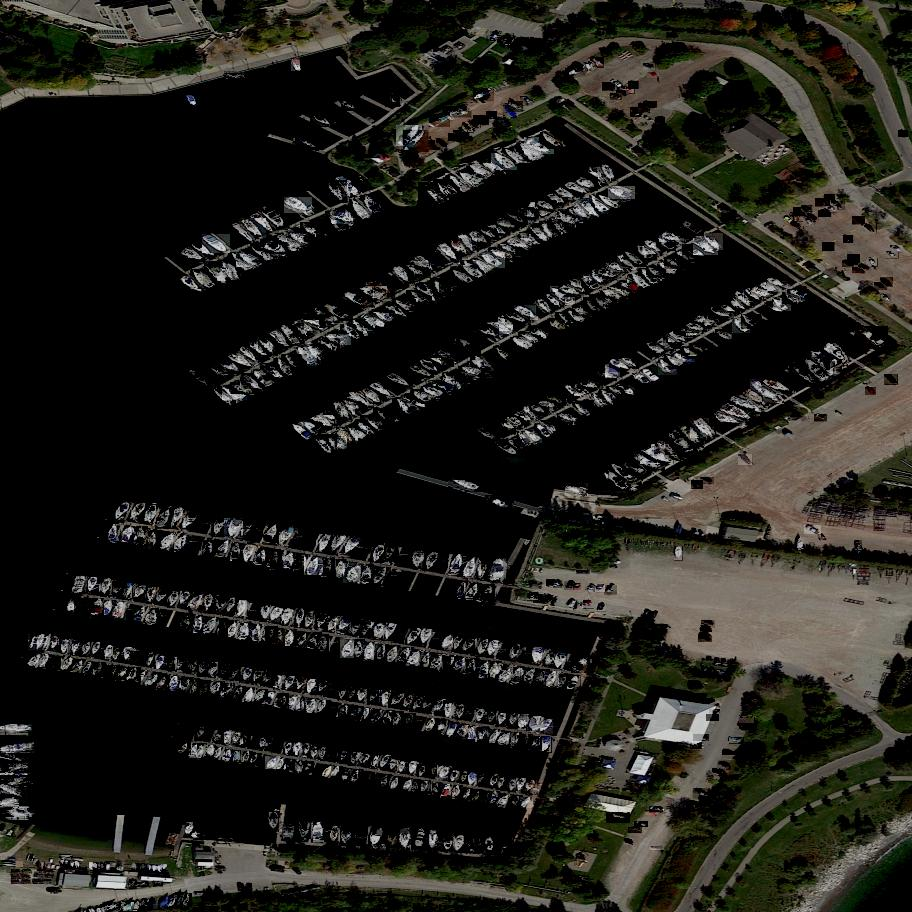ship: (260, 199, 291, 233), (855, 323, 889, 353), (801, 353, 831, 387), (666, 428, 698, 458), (609, 459, 642, 488), (419, 178, 449, 209), (751, 377, 784, 405), (807, 348, 842, 374), (630, 449, 666, 474), (248, 208, 279, 237), (790, 360, 821, 389), (676, 419, 704, 450), (654, 434, 683, 463), (717, 401, 755, 423), (576, 195, 605, 223), (335, 171, 363, 200), (204, 259, 231, 289), (600, 469, 632, 494), (641, 442, 674, 466), (367, 275, 396, 302), (396, 122, 423, 151), (730, 393, 764, 416), (202, 231, 232, 257), (311, 431, 337, 461), (480, 152, 505, 183), (322, 300, 354, 324), (325, 206, 349, 238), (210, 383, 237, 411), (445, 171, 474, 197), (392, 394, 419, 421), (339, 534, 365, 562), (191, 267, 219, 293), (403, 128, 429, 156), (267, 326, 296, 351), (280, 320, 304, 350), (176, 272, 205, 296), (824, 341, 848, 370), (470, 352, 494, 381), (502, 146, 531, 170), (763, 375, 796, 396), (189, 238, 219, 261), (448, 474, 482, 494), (709, 407, 743, 427), (240, 216, 267, 241), (228, 249, 253, 276), (457, 332, 482, 359), (289, 418, 316, 443), (281, 351, 308, 376), (517, 138, 542, 165), (250, 241, 278, 265), (433, 177, 461, 201), (326, 177, 349, 206), (0, 747, 33, 767), (230, 220, 256, 245), (300, 220, 326, 245), (461, 257, 486, 283), (241, 371, 268, 395), (217, 257, 240, 285), (467, 162, 496, 184), (237, 248, 267, 269), (344, 289, 374, 310), (525, 136, 555, 157), (251, 366, 276, 391), (416, 280, 441, 305), (529, 222, 554, 247), (492, 150, 518, 174), (167, 505, 190, 532), (361, 192, 384, 219), (350, 197, 373, 224), (358, 312, 389, 332), (623, 457, 652, 478), (385, 370, 414, 391), (311, 306, 343, 325), (127, 499, 151, 524), (448, 236, 472, 261), (551, 283, 576, 307), (443, 370, 467, 395), (526, 197, 551, 221), (691, 415, 714, 441), (451, 264, 477, 287), (350, 317, 373, 343), (347, 389, 373, 412), (247, 339, 274, 361), (401, 391, 428, 413), (368, 379, 395, 401), (356, 284, 387, 303), (284, 196, 313, 216), (744, 385, 768, 409), (493, 344, 517, 368), (340, 322, 364, 346), (406, 288, 432, 310), (286, 229, 316, 248), (331, 207, 361, 226), (394, 262, 415, 289), (422, 547, 442, 575), (558, 208, 581, 232), (328, 533, 350, 558), (276, 524, 298, 549), (412, 253, 437, 275), (296, 345, 318, 370), (627, 272, 652, 294), (623, 247, 648, 269), (496, 438, 522, 459), (261, 362, 287, 383), (274, 355, 295, 381), (258, 332, 279, 358), (218, 356, 245, 376), (225, 352, 255, 370), (261, 238, 291, 256), (469, 255, 496, 275), (405, 361, 435, 379), (485, 494, 513, 513), (438, 241, 460, 265), (155, 506, 176, 531), (458, 231, 479, 256), (359, 386, 384, 407), (332, 398, 353, 423), (693, 236, 718, 257), (597, 191, 622, 212), (212, 511, 230, 540), (290, 319, 319, 337), (514, 303, 540, 323), (383, 300, 410, 319), (525, 324, 552, 343), (0, 775, 32, 791), (302, 343, 332, 360), (455, 170, 485, 187), (343, 562, 365, 585), (494, 414, 516, 437), (635, 241, 657, 264), (638, 266, 660, 289), (369, 308, 397, 326), (498, 310, 519, 334), (505, 207, 529, 228), (540, 219, 561, 243), (476, 425, 501, 445), (224, 516, 244, 541), (431, 275, 451, 300), (417, 356, 442, 376), (296, 132, 321, 152), (1, 758, 32, 774), (506, 309, 532, 328), (480, 251, 506, 270), (573, 174, 599, 193), (2, 784, 31, 801), (682, 244, 709, 262), (563, 180, 590, 198), (580, 271, 602, 293), (520, 230, 543, 251), (355, 418, 378, 439), (541, 130, 564, 151), (274, 235, 304, 251), (75, 596, 95, 620), (682, 218, 706, 238), (179, 247, 207, 264), (298, 312, 326, 329), (360, 414, 388, 431), (304, 554, 323, 579), (264, 523, 283, 548), (590, 192, 609, 217), (449, 552, 467, 578), (402, 262, 431, 278), (428, 379, 457, 395), (540, 649, 562, 670), (495, 664, 516, 686), (239, 344, 260, 366), (584, 295, 605, 317), (588, 165, 609, 187), (372, 566, 392, 589), (159, 531, 179, 554), (183, 510, 203, 533), (572, 400, 595, 420), (468, 228, 491, 248), (703, 231, 723, 254), (411, 827, 430, 851), (316, 532, 335, 556), (119, 523, 138, 547), (113, 499, 132, 523), (215, 539, 234, 563), (99, 598, 118, 622), (476, 322, 500, 341), (311, 111, 335, 130), (369, 825, 387, 850), (207, 363, 235, 379), (488, 246, 516, 262), (485, 220, 511, 237), (567, 206, 593, 223), (572, 655, 593, 676), (545, 290, 566, 311), (618, 252, 639, 273), (656, 232, 677, 253), (460, 635, 480, 657), (406, 649, 426, 671), (172, 533, 192, 555), (615, 379, 637, 399), (592, 391, 612, 413), (536, 294, 556, 316), (507, 641, 526, 664), (63, 593, 82, 616), (563, 383, 586, 402), (436, 346, 459, 365), (465, 582, 483, 606), (70, 573, 88, 597), (342, 425, 369, 441), (464, 556, 481, 581), (411, 388, 436, 405), (553, 185, 578, 202), (438, 632, 458, 653), (640, 365, 661, 385), (658, 357, 678, 378), (374, 407, 395, 427), (424, 354, 454, 368), (547, 218, 575, 233), (608, 185, 636, 200), (191, 371, 213, 390), (323, 406, 342, 428), (736, 287, 755, 309), (494, 216, 520, 232), (595, 265, 621, 281), (708, 305, 734, 321), (590, 294, 616, 310), (383, 621, 401, 644), (383, 644, 401, 667), (318, 337, 341, 355), (546, 190, 569, 208), (315, 608, 332, 632), (511, 336, 535, 353), (311, 413, 335, 430), (617, 279, 641, 296), (5, 807, 36, 820), (336, 615, 356, 635), (389, 690, 409, 710), (223, 385, 248, 401), (130, 584, 150, 604), (593, 367, 618, 383), (646, 338, 666, 358), (300, 418, 325, 434), (515, 206, 540, 222), (452, 655, 471, 676), (522, 667, 541, 688), (188, 593, 207, 614), (153, 586, 172, 607), (259, 625, 278, 646), (663, 330, 682, 351), (527, 714, 545, 736), (201, 615, 219, 637), (665, 353, 687, 371), (231, 381, 259, 395), (306, 631, 323, 654), (600, 160, 617, 183), (491, 558, 506, 584), (370, 541, 386, 565), (144, 502, 160, 526), (609, 358, 633, 374), (644, 240, 668, 256), (108, 579, 127, 599), (534, 421, 553, 441), (742, 313, 762, 332), (570, 277, 590, 296), (212, 595, 230, 616), (337, 426, 355, 447), (297, 815, 312, 840), (320, 556, 335, 581), (519, 331, 544, 346), (1, 742, 35, 753), (360, 618, 376, 641), (512, 410, 535, 426), (555, 311, 578, 327), (487, 321, 513, 335), (143, 671, 162, 690), (371, 621, 389, 641), (340, 637, 355, 661), (430, 654, 448, 674), (681, 344, 701, 362), (689, 342, 713, 357), (733, 317, 751, 337), (405, 627, 422, 648), (398, 647, 415, 668), (599, 388, 620, 405), (547, 317, 568, 334), (590, 267, 607, 288), (430, 113, 451, 130), (255, 547, 271, 569), (655, 337, 677, 353), (715, 328, 737, 344), (506, 238, 533, 251), (361, 563, 375, 588), (393, 298, 418, 312), (475, 227, 500, 241), (322, 436, 347, 450), (478, 659, 493, 682), (241, 518, 256, 541), (242, 542, 257, 565), (606, 260, 629, 275), (565, 309, 588, 324), (536, 197, 559, 212), (409, 697, 428, 715), (420, 696, 438, 715), (536, 718, 554, 737), (154, 673, 172, 692), (27, 651, 45, 670), (260, 671, 279, 689), (773, 296, 792, 314), (506, 437, 526, 454), (534, 668, 551, 688), (517, 430, 534, 450), (695, 313, 715, 330), (523, 428, 543, 445), (728, 296, 748, 313), (665, 257, 691, 270), (420, 651, 436, 672), (443, 654, 459, 675), (224, 595, 240, 616), (29, 634, 50, 650), (179, 613, 195, 634), (134, 605, 150, 626), (560, 283, 584, 297), (474, 88, 495, 104), (385, 542, 400, 564), (544, 669, 559, 691), (565, 64, 587, 79), (340, 398, 362, 413), (545, 393, 567, 408), (601, 289, 623, 304), (719, 300, 741, 315), (660, 230, 685, 243), (572, 304, 597, 317), (458, 366, 485, 378), (745, 286, 763, 304), (496, 731, 515, 748), (314, 679, 331, 698), (554, 673, 571, 692), (269, 606, 286, 625), (134, 669, 151, 688), (541, 419, 560, 436), (481, 583, 495, 606), (378, 753, 394, 773), (263, 690, 279, 710), (125, 666, 141, 686), (71, 658, 87, 678), (669, 327, 689, 343), (504, 415, 524, 431), (2, 770, 31, 781), (453, 633, 468, 654), (486, 638, 501, 659), (523, 402, 538, 423), (565, 483, 589, 496), (499, 245, 525, 257), (422, 386, 446, 399), (608, 287, 634, 299), (375, 642, 389, 664), (269, 549, 283, 571), (251, 622, 265, 644), (571, 381, 593, 395), (685, 319, 707, 333), (787, 288, 809, 302), (356, 751, 374, 768), (359, 770, 376, 788), (283, 694, 301, 711), (230, 685, 247, 703), (209, 681, 226, 699), (177, 676, 194, 694), (113, 666, 131, 683), (229, 730, 246, 748), (103, 664, 120, 682), (249, 668, 266, 686), (131, 649, 148, 667), (370, 708, 386, 727), (315, 699, 331, 718), (400, 693, 416, 712), (177, 590, 193, 609), (197, 659, 213, 678), (488, 727, 503, 747), (518, 713, 533, 733), (281, 552, 296, 572), (274, 692, 289, 712), (79, 639, 94, 659), (326, 334, 351, 346), (647, 265, 667, 280), (765, 301, 785, 316), (341, 824, 354, 847), (657, 261, 680, 274), (759, 280, 782, 293), (475, 637, 489, 658), (295, 553, 309, 574), (554, 650, 568, 671), (489, 661, 503, 682), (238, 622, 252, 643), (768, 276, 789, 290), (348, 706, 365, 723), (605, 362, 622, 379), (320, 763, 336, 781), (253, 688, 269, 706), (579, 378, 603, 390), (606, 812, 630, 824), (470, 832, 483, 854), (386, 828, 399, 850), (364, 641, 377, 663), (148, 529, 161, 551), (203, 539, 216, 561), (382, 710, 397, 729), (295, 632, 310, 651), (497, 710, 512, 729), (60, 655, 75, 674), (503, 102, 518, 121), (445, 719, 459, 739), (632, 372, 652, 386), (203, 592, 215, 615), (109, 523, 122, 544), (273, 627, 286, 648), (228, 620, 241, 641), (194, 615, 207, 636), (91, 597, 104, 618), (158, 895, 175, 911), (432, 699, 448, 716), (339, 704, 354, 722), (465, 724, 480, 742), (327, 616, 342, 634), (507, 713, 522, 731), (81, 661, 96, 679), (419, 627, 433, 646), (379, 689, 393, 708), (87, 576, 101, 595), (241, 665, 255, 684), (457, 580, 469, 602), (557, 413, 579, 425), (675, 251, 697, 263), (467, 657, 480, 677), (265, 755, 281, 771), (437, 765, 452, 782), (435, 718, 450, 735), (480, 790, 495, 807), (508, 794, 523, 811), (265, 737, 280, 754), (412, 547, 423, 570), (673, 353, 696, 364), (350, 768, 364, 786), (456, 833, 468, 854), (484, 835, 496, 856), (390, 775, 404, 793), (306, 608, 318, 629), (368, 688, 382, 706), (168, 589, 180, 610), (100, 576, 112, 597), (196, 724, 210, 742), (115, 601, 127, 622), (567, 675, 581, 693), (622, 356, 640, 370), (606, 385, 624, 399), (341, 98, 359, 112), (425, 717, 438, 736), (155, 653, 168, 672), (530, 403, 549, 416), (455, 725, 471, 740), (531, 736, 546, 752), (498, 794, 513, 810), (313, 823, 325, 843), (294, 607, 306, 627), (337, 682, 349, 702), (200, 679, 212, 699), (247, 753, 262, 769), (177, 741, 192, 757), (782, 291, 797, 307), (385, 93, 401, 108), (50, 656, 64, 673), (219, 663, 233, 680), (508, 99, 525, 113), (510, 732, 523, 750), (520, 733, 533, 751), (187, 90, 200, 108), (70, 637, 83, 655), (400, 828, 411, 849), (223, 681, 235, 700), (244, 686, 256, 705), (285, 629, 297, 648), (284, 673, 296, 692), (674, 325, 699, 334), (526, 780, 540, 796), (175, 892, 189, 908), (214, 747, 228, 763), (448, 767, 461, 784), (488, 773, 501, 790), (338, 749, 351, 766), (401, 776, 414, 793), (470, 788, 483, 805), (259, 605, 272, 622), (169, 675, 182, 692), (239, 732, 252, 749), (268, 811, 279, 831), (352, 617, 363, 637), (318, 634, 329, 654), (146, 585, 157, 605), (1, 725, 32, 732), (349, 749, 361, 767), (478, 726, 490, 744), (307, 698, 319, 716), (358, 686, 370, 704), (306, 678, 318, 696), (540, 400, 558, 412), (751, 286, 772, 296), (533, 646, 544, 665), (340, 767, 353, 783), (460, 787, 473, 803), (102, 644, 115, 660), (517, 777, 529, 794), (273, 673, 285, 690), (355, 639, 365, 659), (283, 759, 297, 773), (590, 56, 604, 70), (417, 764, 430, 779), (404, 713, 416, 729), (442, 783, 454, 799), (189, 744, 201, 760), (329, 824, 339, 843), (137, 527, 147, 546), (218, 618, 228, 637), (296, 675, 307, 692), (513, 667, 524, 684), (237, 600, 248, 617), (95, 661, 106, 678), (141, 898, 154, 912), (520, 797, 533, 811), (394, 711, 404, 729), (332, 765, 344, 780), (349, 684, 359, 702), (446, 701, 456, 719), (281, 608, 291, 626), (362, 707, 373, 723), (382, 773, 393, 789), (487, 710, 498, 726), (242, 750, 253, 766), (92, 642, 103, 658), (41, 653, 52, 669), (337, 560, 346, 579), (330, 747, 340, 764), (2, 797, 19, 807), (476, 707, 486, 724), (149, 609, 159, 626), (276, 758, 288, 772), (477, 772, 488, 787), (432, 783, 443, 798), (296, 698, 307, 713), (444, 833, 453, 851), (479, 561, 488, 579), (457, 703, 466, 721), (232, 544, 241, 562), (225, 73, 248, 80), (448, 111, 471, 118), (304, 760, 316, 773), (212, 732, 224, 745), (458, 769, 469, 783), (444, 107, 466, 114), (410, 759, 419, 776), (198, 743, 207, 760), (146, 651, 155, 668), (705, 314, 722, 323), (170, 894, 180, 909), (207, 744, 217, 759), (284, 741, 294, 756), (230, 665, 240, 680), (178, 657, 188, 672), (498, 775, 507, 791), (510, 777, 519, 793), (113, 647, 122, 663), (452, 785, 463, 798), (258, 737, 268, 751), (209, 662, 219, 676), (429, 831, 437, 848), (674, 546, 683, 561), (186, 823, 196, 836), (503, 839, 511, 855), (101, 904, 119, 911), (413, 779, 422, 793), (422, 780, 431, 794), (291, 58, 300, 72), (469, 772, 477, 787), (543, 737, 551, 752), (125, 647, 133, 662), (296, 761, 305, 774), (311, 746, 320, 759), (796, 537, 805, 550), (399, 760, 407, 774), (125, 583, 132, 599), (226, 749, 234, 763), (185, 893, 192, 908), (62, 639, 69, 654), (372, 755, 380, 768), (491, 792, 499, 805), (51, 635, 58, 649), (294, 742, 302, 754), (190, 659, 197, 672), (193, 835, 208, 841), (225, 730, 231, 745), (168, 655, 174, 670), (305, 742, 311, 756), (136, 883, 150, 889), (61, 856, 73, 863), (588, 60, 597, 69), (321, 747, 327, 760), (193, 679, 199, 692), (130, 879, 137, 890), (390, 759, 396, 771), (431, 764, 437, 776), (134, 901, 142, 910), (153, 880, 163, 887), (233, 752, 240, 762), (585, 62, 592, 72), (63, 861, 70, 870), (217, 838, 235, 841), (162, 865, 169, 872), (34, 858, 40, 866), (72, 857, 83, 861), (7, 830, 13, 837), (69, 861, 75, 868), (100, 863, 105, 870), (60, 855, 71, 858), (94, 863, 99, 869), (159, 865, 163, 872), (141, 863, 145, 870), (60, 860, 65, 865), (41, 862, 45, 868), (106, 864, 110, 870), (136, 863, 139, 870), (132, 863, 135, 869), (90, 863, 93, 868), (149, 865, 151, 871), (76, 862, 78, 867), (154, 866, 156, 871), (146, 865, 147, 870)
small-vehicle: (512, 36, 529, 51), (738, 452, 753, 468), (694, 788, 711, 801), (605, 583, 618, 598), (848, 252, 861, 267), (473, 114, 489, 126), (497, 33, 513, 45), (610, 78, 624, 91), (885, 373, 898, 387), (805, 524, 821, 535), (565, 598, 578, 611), (533, 593, 546, 606), (602, 81, 616, 93), (803, 214, 815, 228), (580, 599, 594, 611), (429, 139, 441, 152), (462, 121, 474, 134), (881, 277, 894, 289), (822, 241, 835, 253), (794, 206, 807, 218), (542, 594, 555, 606), (467, 118, 481, 129), (490, 29, 501, 43), (816, 197, 830, 208), (717, 759, 731, 770), (814, 413, 828, 424), (865, 222, 877, 234), (853, 215, 865, 227), (630, 106, 642, 118), (692, 479, 704, 491), (834, 199, 846, 211), (436, 137, 449, 148), (520, 95, 533, 106), (806, 211, 819, 222), (639, 102, 650, 115), (886, 250, 899, 261), (634, 820, 648, 830), (628, 79, 640, 90), (866, 385, 877, 397), (595, 583, 606, 595), (801, 204, 814, 214), (858, 263, 871, 273), (528, 590, 538, 603), (565, 580, 575, 593), (739, 717, 755, 725), (694, 734, 710, 742), (505, 37, 519, 46), (700, 477, 714, 486), (702, 620, 716, 629), (487, 110, 498, 121), (881, 292, 892, 303), (867, 257, 878, 268), (453, 130, 465, 140), (459, 125, 469, 137), (647, 71, 659, 81), (687, 801, 702, 809), (842, 259, 854, 269), (844, 233, 854, 245), (551, 596, 561, 608), (791, 221, 804, 230), (819, 209, 832, 218), (891, 245, 904, 254), (644, 101, 658, 109), (730, 737, 744, 745), (449, 132, 460, 142), (824, 193, 835, 203), (597, 602, 607, 613), (875, 282, 887, 291), (649, 634, 667, 640), (739, 722, 754, 729), (651, 638, 666, 645), (610, 93, 623, 101), (713, 769, 726, 777), (825, 206, 838, 214), (790, 211, 800, 221), (899, 129, 909, 139), (587, 585, 597, 595), (855, 539, 864, 550), (554, 580, 563, 591), (698, 636, 712, 643), (644, 63, 656, 71), (706, 714, 719, 721), (656, 117, 666, 126), (624, 837, 634, 846), (652, 629, 667, 635), (651, 611, 660, 621), (573, 600, 582, 610), (622, 87, 634, 94), (855, 550, 863, 560), (690, 743, 703, 749), (616, 90, 628, 96), (853, 267, 865, 273), (784, 216, 794, 223), (645, 811, 658, 816), (650, 807, 663, 812), (577, 570, 590, 575), (875, 551, 882, 560), (629, 828, 641, 833), (654, 625, 669, 629), (700, 628, 712, 633), (547, 580, 555, 587), (709, 710, 720, 715), (238, 883, 244, 891), (247, 883, 253, 891), (651, 847, 664, 850), (723, 751, 735, 754), (699, 634, 711, 637), (645, 611, 651, 617), (594, 516, 604, 519), (575, 584, 581, 589), (740, 716, 752, 718)
